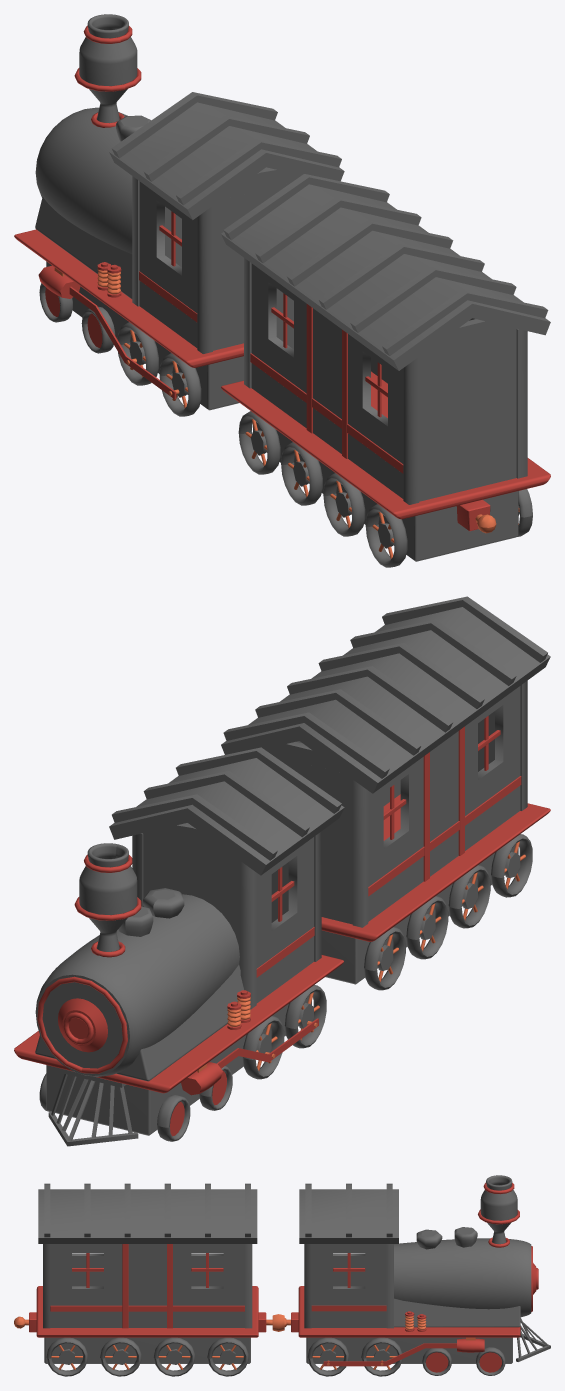
The model's file is Locomotive Trains.glb.
The picture shows the model from 3 angles, top to bottom: view 1: azimuth 30°, elevation 25°; view 2: azimuth 150°, elevation 25°; view 3: azimuth 270°, elevation 25°; orthographic projection. The views are drawn at different scales.
Visible parts, largest first — view 1: Root; view 2: Root; view 3: Root.
Part boxes in pixels (<box>): Root: <box>14,14,550,567</box>; Root: <box>14,596,550,1146</box>; Root: <box>14,1175,550,1376</box>.
Size of the model in its own units: 1.97 by 3.18 by 8.77.
